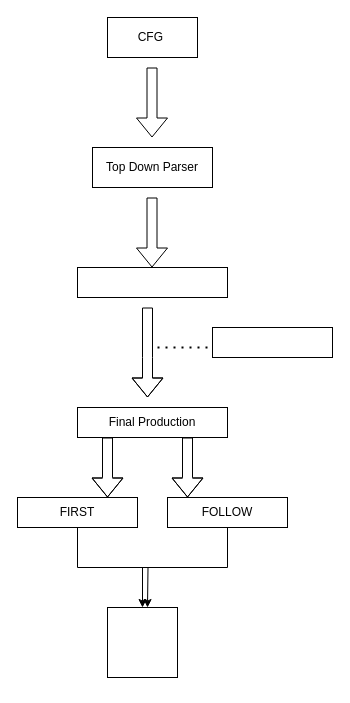
Some shapes in this 350 by 703 pixel diagram are drawn without their labels. The shapes that lost their labels are listed below. From the top down, each one's box as (x1, y1, x2, y2) in pixels, then its label:
(76, 266, 228, 298): Original Production
(212, 326, 332, 358): Left Recursive
(106, 606, 178, 678): Parse Table Construction
